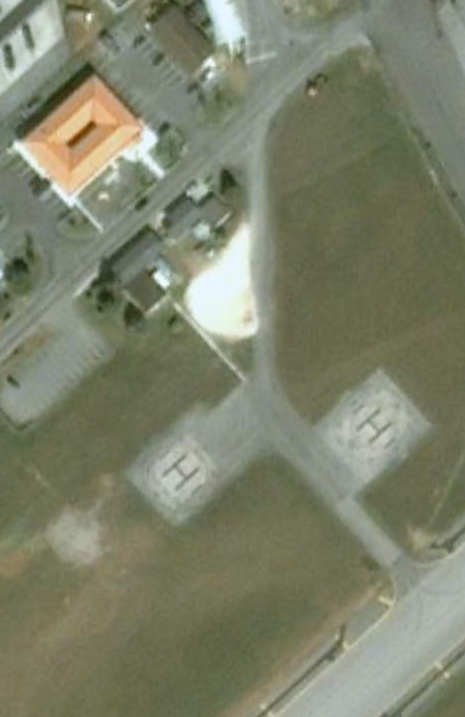heliport: (154, 449, 202, 495), (351, 403, 395, 448)
